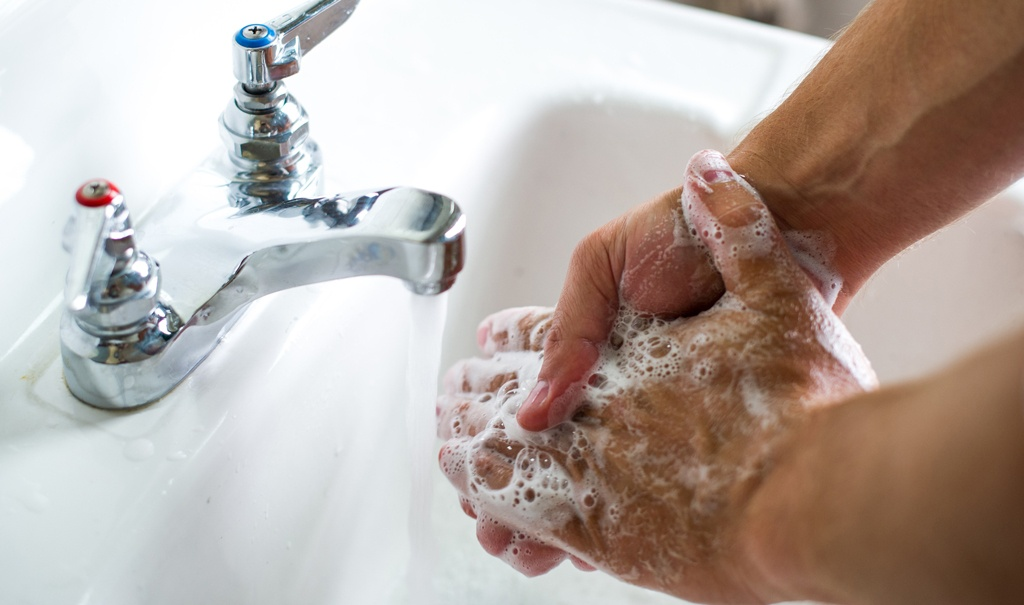washing hand: (199, 31, 921, 586)
